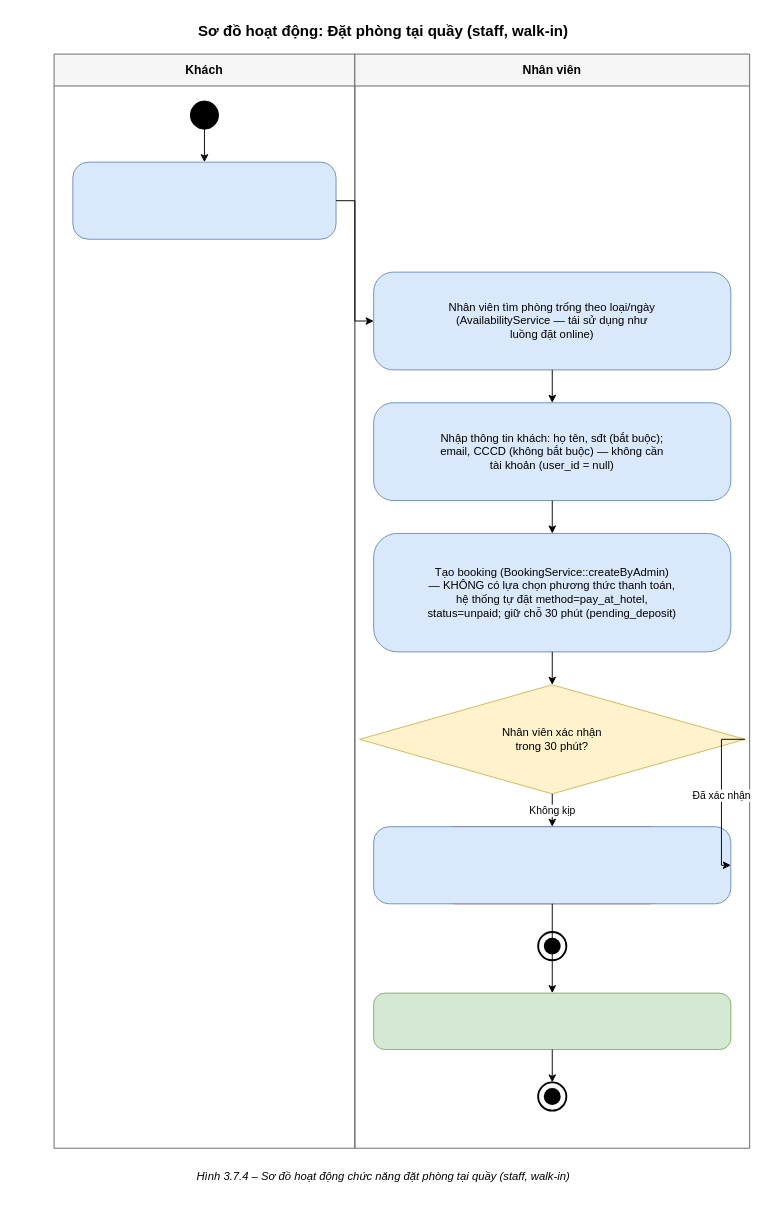
This 769x1206 diagram has some shape labels left out. Here are the shapes that lost their labels. From the top down, the box of each, then its label:
(72, 161, 336, 239): Khách đến quầy lễ tân, cung cấp yêu cầu (loại phòng, ngày, số khách)
(373, 826, 731, 904): Bấm Xác nhận booking (POST .../confirm)
(373, 992, 731, 1050): Booking chuyển sang status = confirmed
